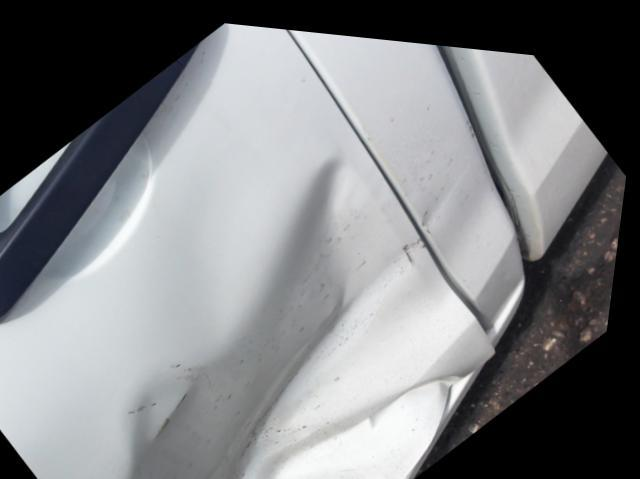dent: (131, 139, 474, 479)
